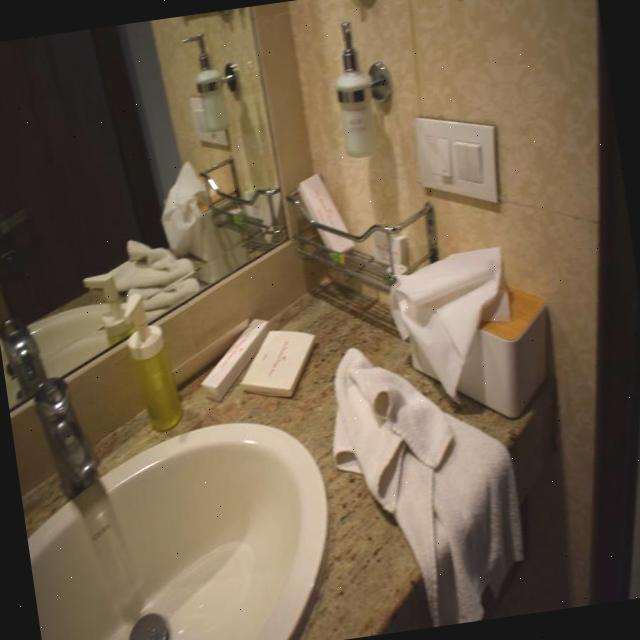disorganized_towel: (331, 349, 528, 626)
mess: (385, 250, 528, 394), (185, 315, 339, 424)
messy_sink: (0, 199, 585, 640)
